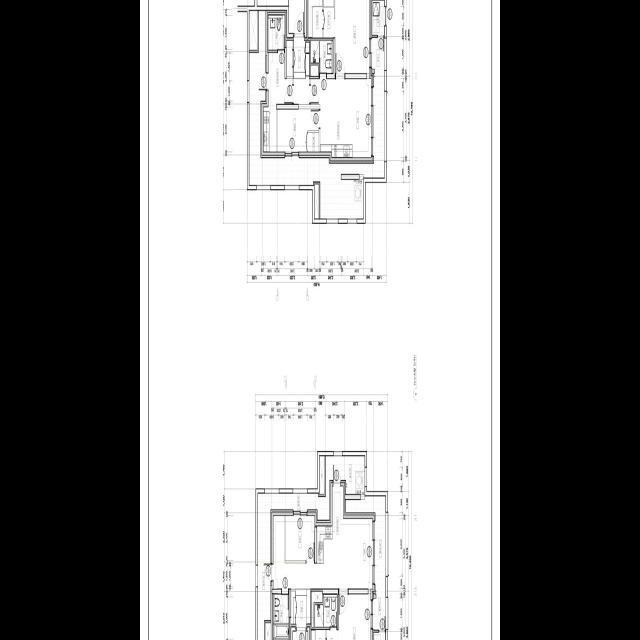background: (140, 0, 500, 640)
space_balconi: (249, 10, 384, 218), (258, 456, 365, 640), (346, 496, 386, 629)
space_bedroom: (335, 0, 369, 73), (278, 109, 319, 151), (338, 593, 371, 640), (286, 515, 315, 560)
space_dressroom: (308, 0, 322, 37), (324, 0, 334, 37), (308, 132, 319, 151), (311, 629, 326, 640), (327, 629, 337, 640)
space_front: (286, 36, 309, 78), (291, 589, 311, 623)
space_kitchen: (317, 486, 343, 563), (320, 104, 352, 156), (263, 103, 276, 151)
space_living_room: (268, 52, 372, 157), (273, 515, 373, 588)
space_other: (312, 591, 322, 627), (249, 10, 258, 49), (319, 456, 325, 493), (314, 184, 319, 218), (257, 0, 288, 5), (265, 622, 271, 640), (311, 65, 318, 75)
space_outdoor_room: (372, 0, 384, 35), (374, 632, 385, 640)
space_toilet: (273, 594, 289, 639), (315, 594, 337, 626), (268, 15, 285, 49), (319, 40, 333, 72), (311, 40, 319, 62)
